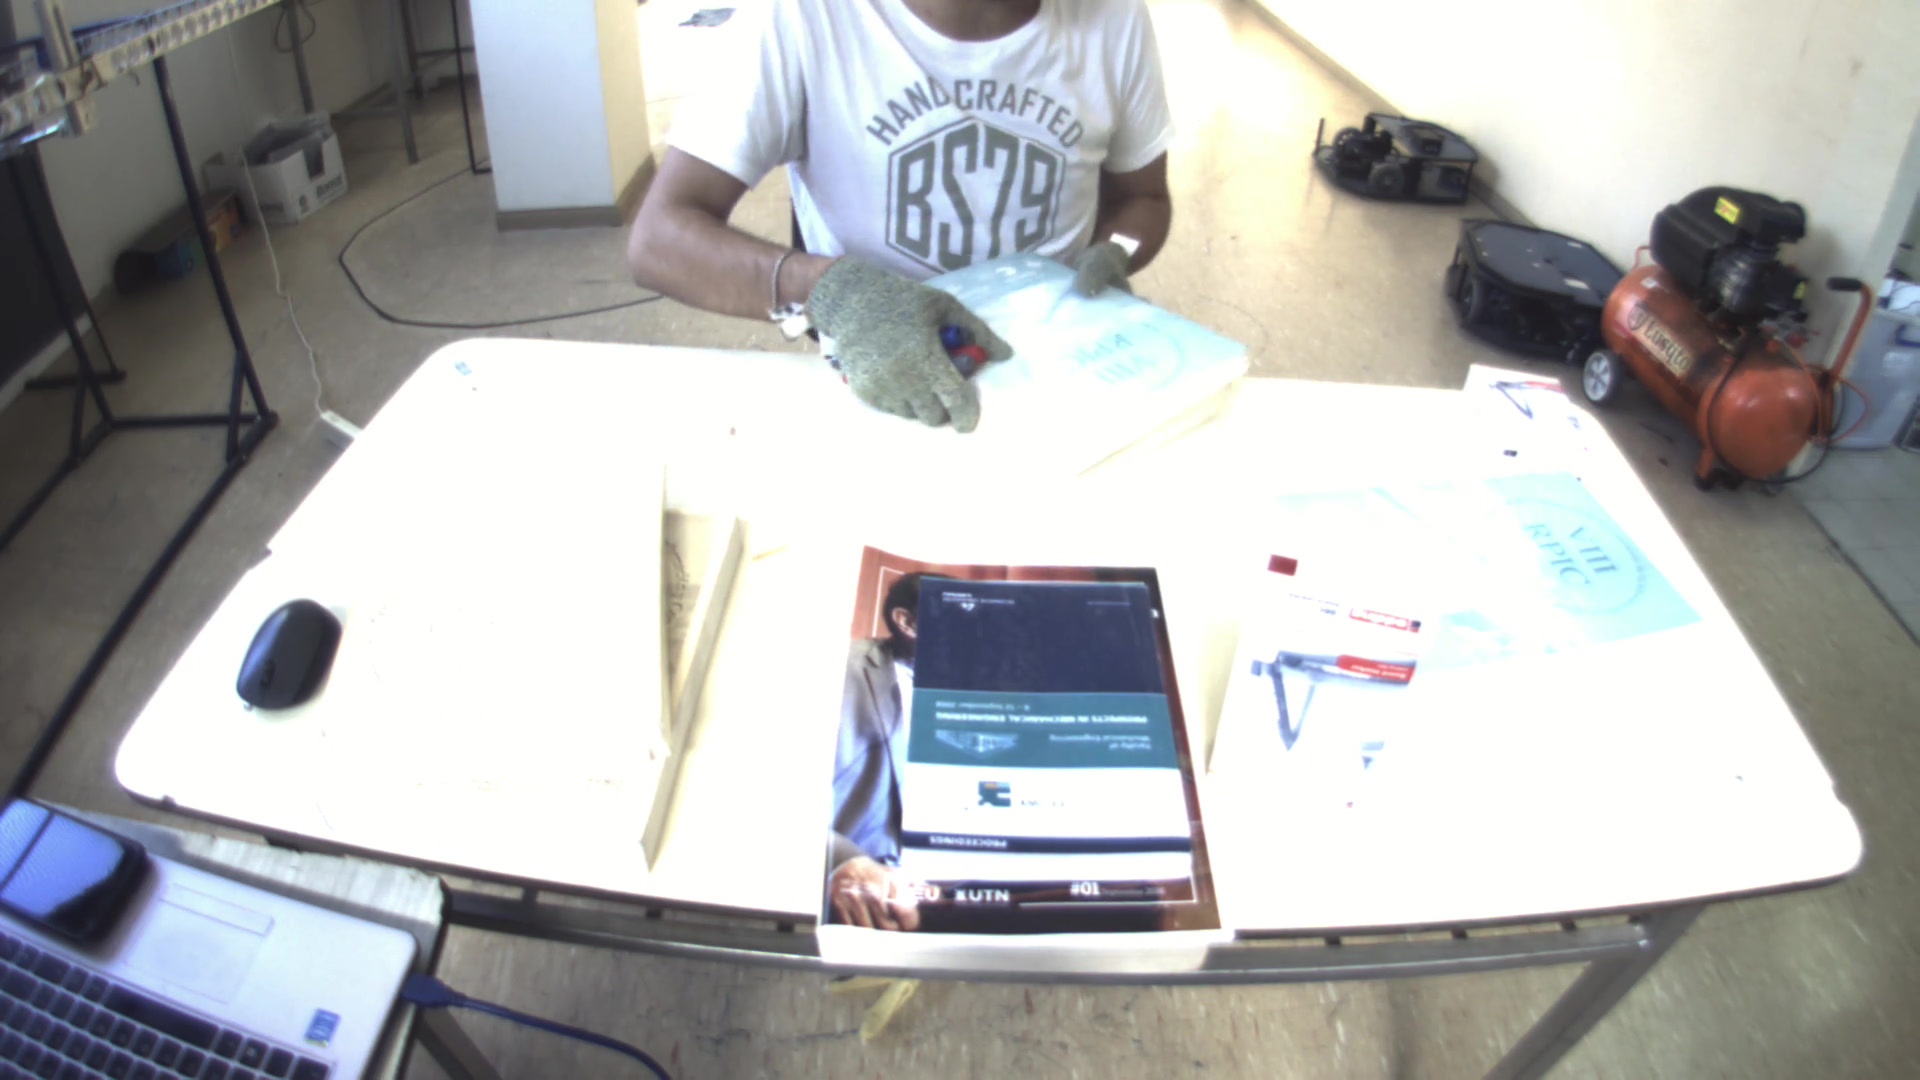hand: (793, 251, 1017, 434), (1058, 231, 1145, 301)
